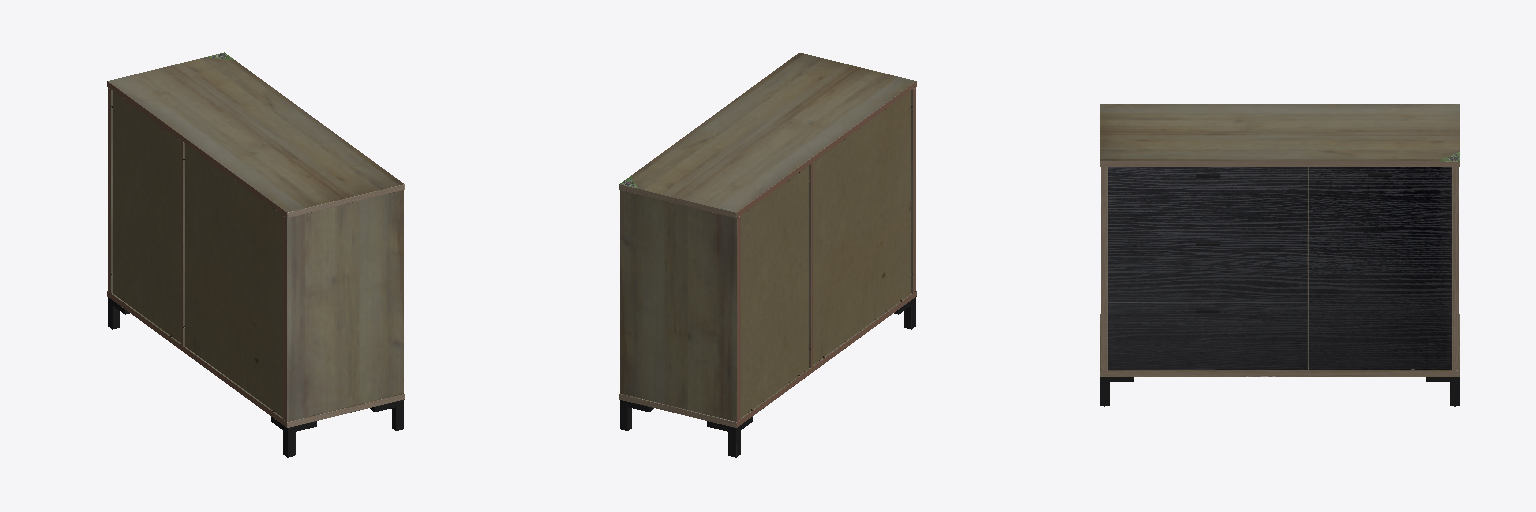
The picture shows the model from 3 angles: view 1: azimuth 30°, elevation 25°; view 2: azimuth 150°, elevation 25°; view 3: azimuth 270°, elevation 25°; orthographic projection.
Bounding box in the file's own units: 0.4521 × 0.9083 × 1.2.
Materials: 1 (1 with a texture image).